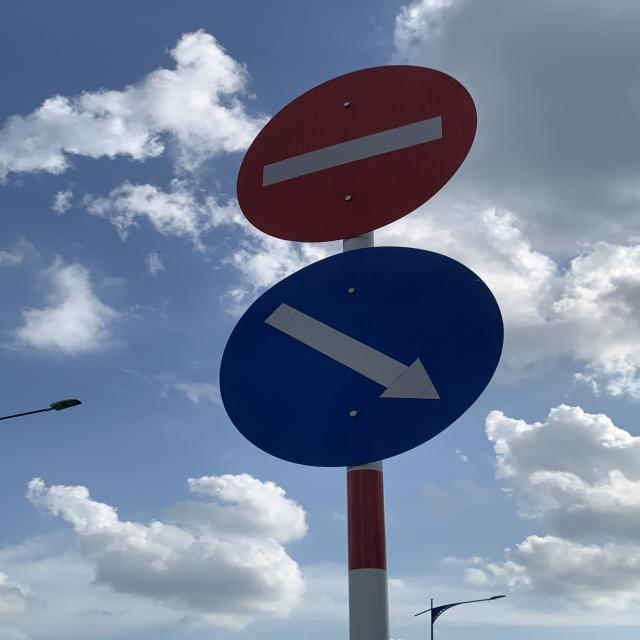Cam_Di_Nguoc_Chieu: (233, 61, 475, 243)
Chi_Huong_Di_Phai: (218, 244, 512, 467)
